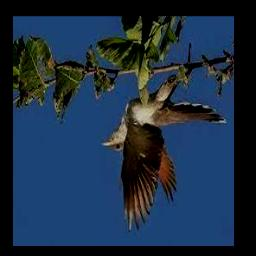Cuckoo: (100, 78, 227, 234)
